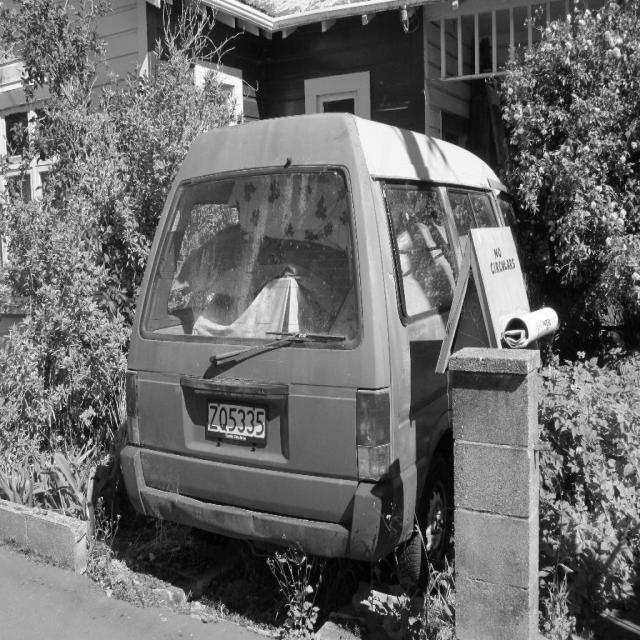plate: (206, 403, 268, 446)
